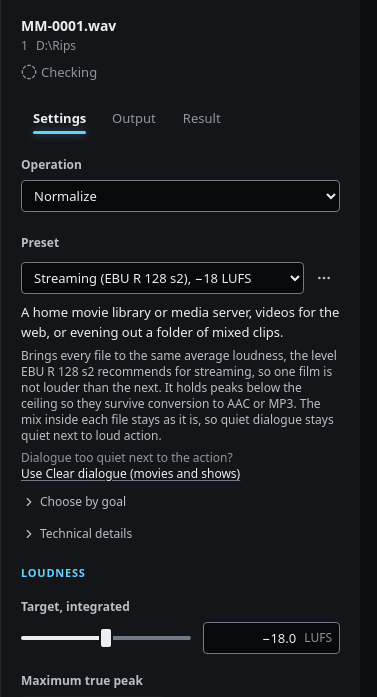
InspectorPanel › shows one job with the Settings, Output, and Result tabs and the scope footer
Click the tab "Result". click: [202, 118]
box: [169,102,234,134]
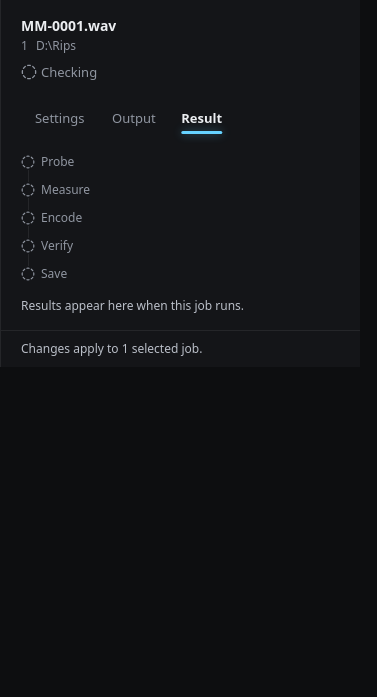
expect the element named "Inspector" shows "Results appear here when this job runs.": met, box [21,297,244,314]
